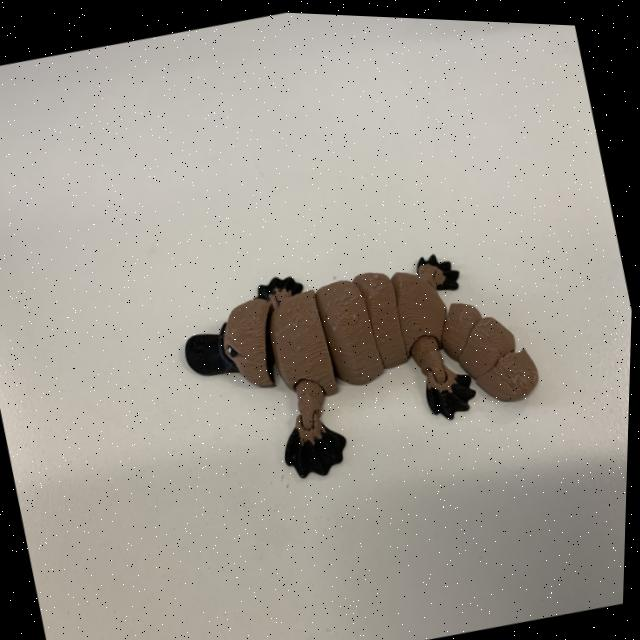platypus: (140, 169, 588, 547)
